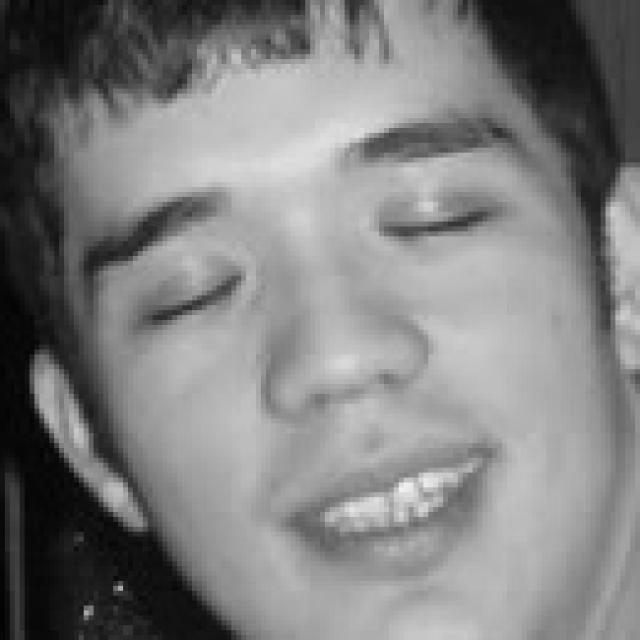real: (44, 36, 620, 584), (98, 176, 512, 319)
